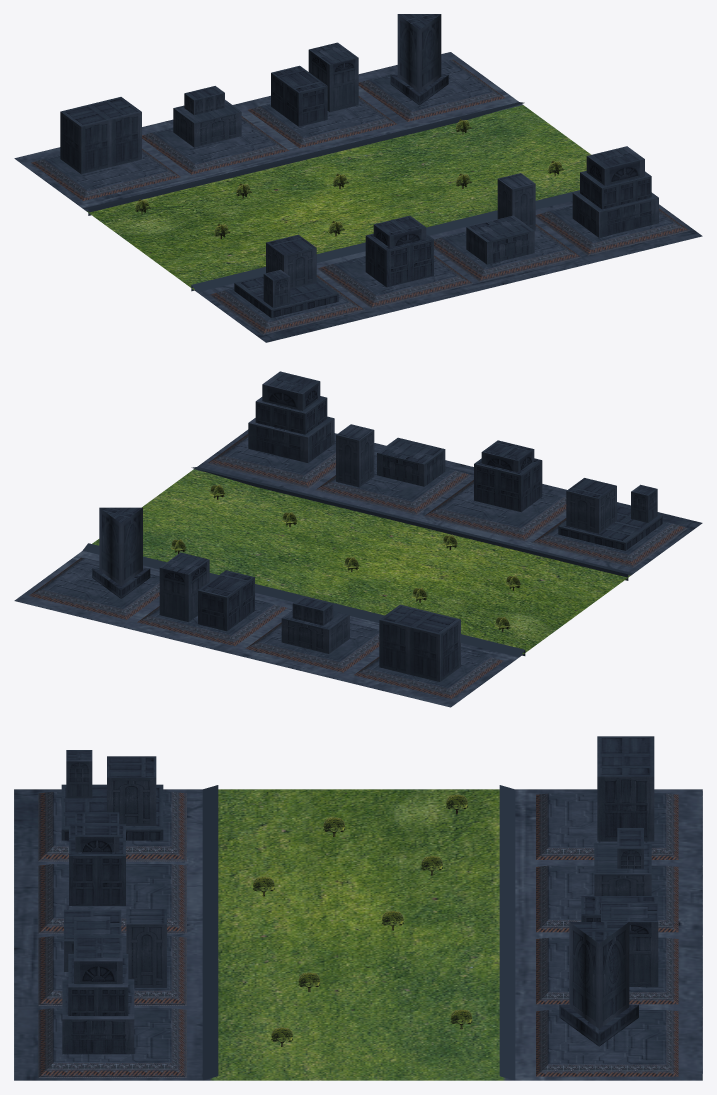
Rendered from Parkblok2.FBX.
3 views of the same model, one above another, from view 1: azimuth 30°, elevation 25°; view 2: azimuth 150°, elevation 25°; view 3: azimuth 270°, elevation 25° (orthographic). The views are drawn at different scales.
Visible parts, largest first — view 1: polySurface07; view 2: polySurface07; view 3: polySurface07.
Part boxes in pixels (left/top/right/bottom): polySurface07: left=14, top=14, right=702, bottom=342; polySurface07: left=14, top=371, right=702, bottom=707; polySurface07: left=14, top=736, right=702, bottom=1080.
Bounding box in the file's own units: 43.82 × 7.69 × 43.8.
3 materials, 3 textured.
